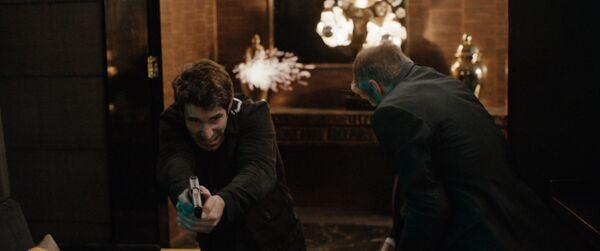Gun: (188, 173, 207, 216)
